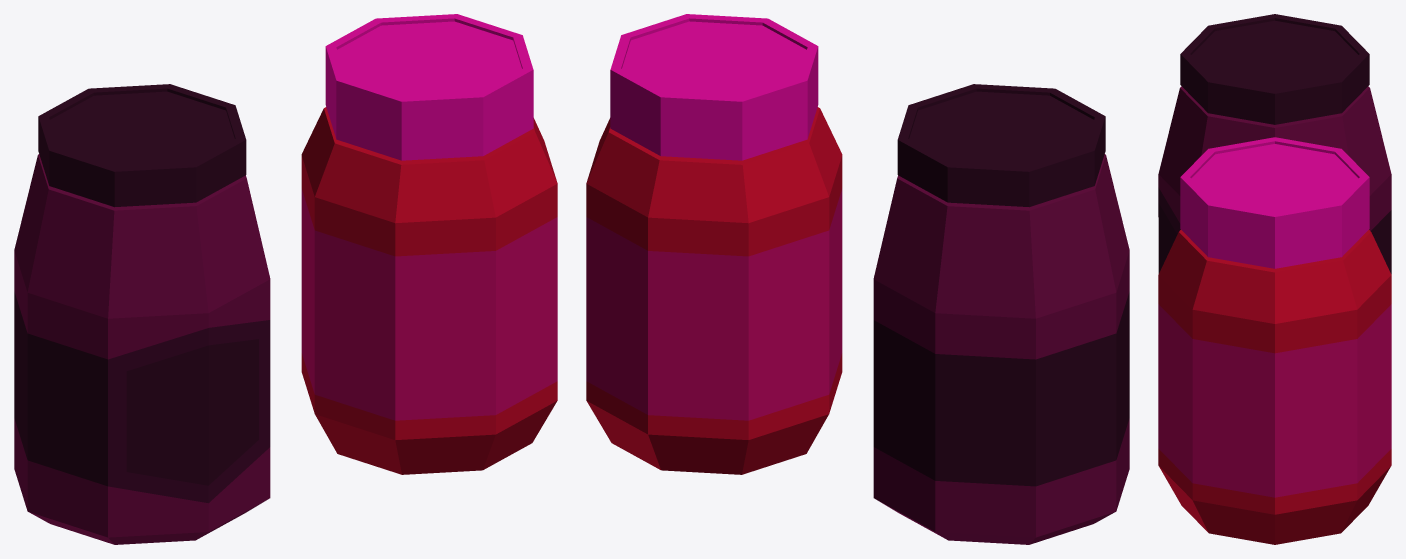
Rendered from PeanutButterAndJellyJars_01.fbx.
3 renders of one model, left to right at view 1: azimuth 30°, elevation 25°; view 2: azimuth 150°, elevation 25°; view 3: azimuth 270°, elevation 25°, orthographic. The views are drawn at different scales.
Visible parts, largest first — view 1: PeanutButterAndJellyJars_01; view 2: PeanutButterAndJellyJars_01; view 3: PeanutButterAndJellyJars_01.
Boxes of the visible parts, x1,y1,x2,y2 form: PeanutButterAndJellyJars_01: (14,14,557,544); PeanutButterAndJellyJars_01: (586,14,1129,544); PeanutButterAndJellyJars_01: (1158,14,1391,544).
Size of the model in its own units: 10.12 by 6.99 by 4.5.
